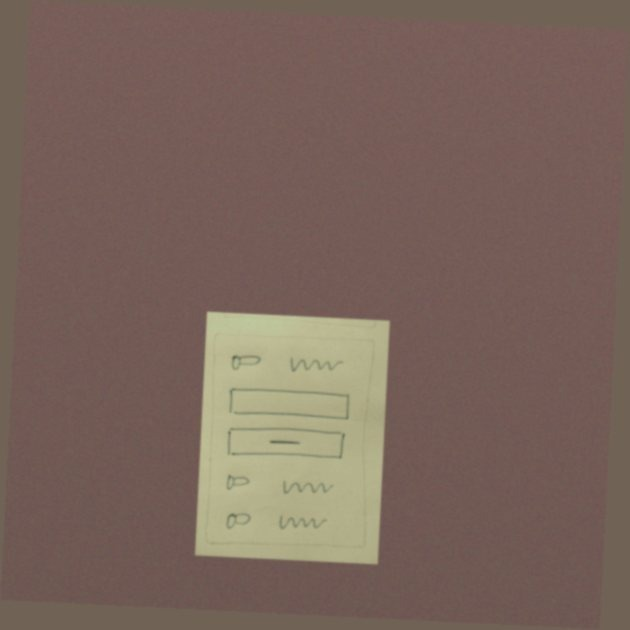button: (222, 423, 348, 465)
switch: (227, 351, 263, 373), (221, 473, 258, 494), (220, 511, 256, 532)
text: (286, 353, 346, 378), (278, 474, 338, 498), (276, 511, 335, 535)
text_input: (225, 386, 353, 426)
